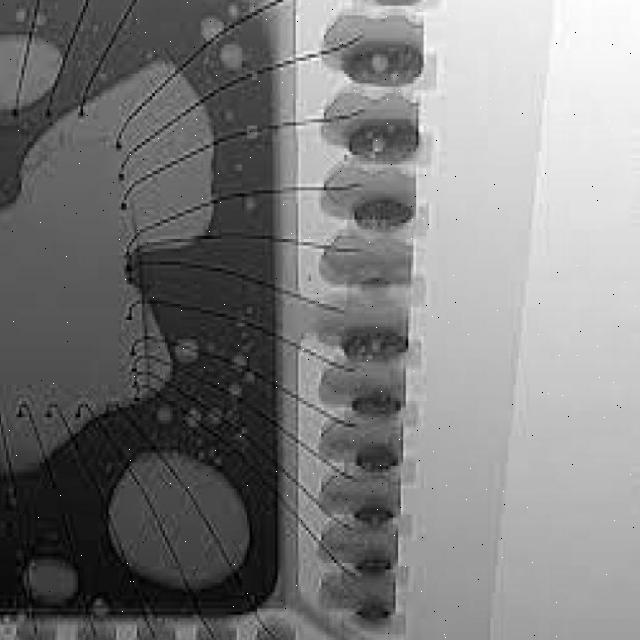void: (0, 65, 210, 459), (108, 452, 248, 588), (0, 34, 61, 111), (27, 558, 77, 605), (201, 17, 224, 42), (221, 44, 241, 70)
